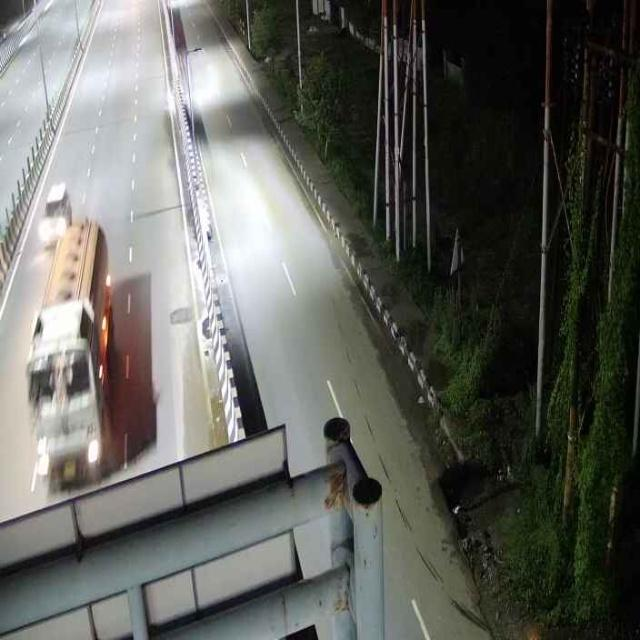car: (38, 178, 71, 248)
